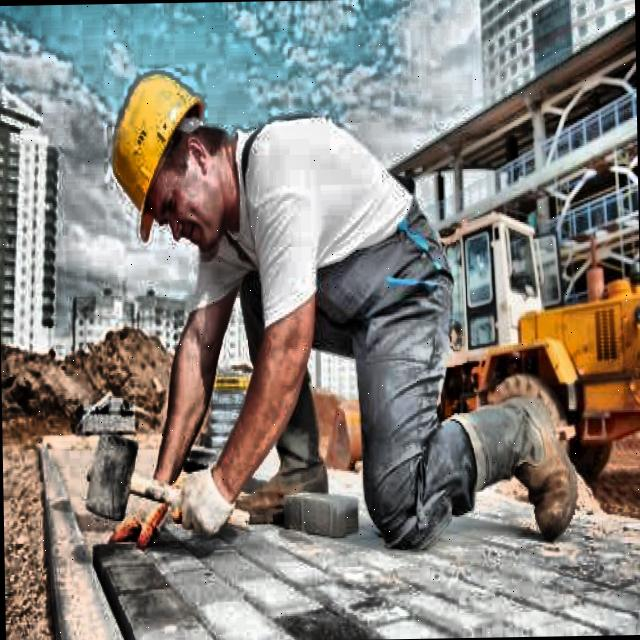helmet: (95, 57, 245, 263)
